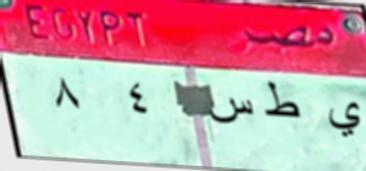4: (124, 78, 152, 124)
8: (49, 70, 81, 120)
Taa: (256, 82, 303, 132)
seen: (210, 94, 254, 130)
yaa: (320, 98, 364, 142)
